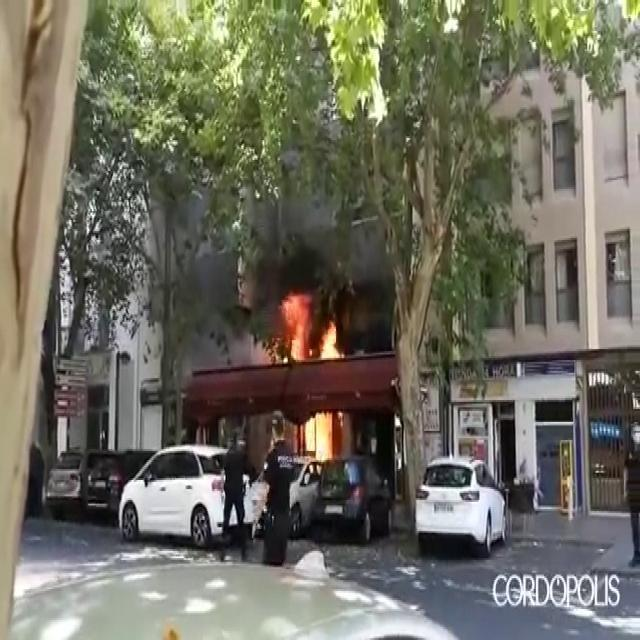Fire: (262, 289, 346, 367), (296, 407, 344, 469)
